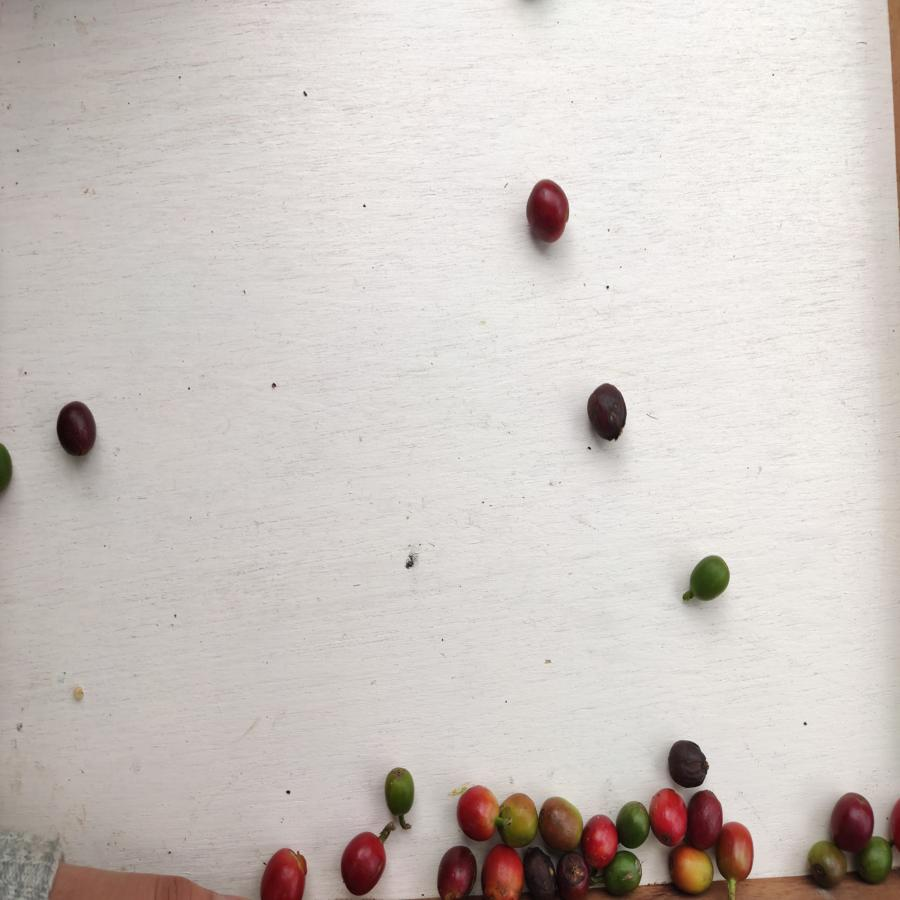Inmaduro: (677, 549, 738, 606), (383, 765, 420, 819), (616, 800, 649, 851), (860, 837, 893, 884), (606, 853, 645, 892)
Maduro: (338, 831, 391, 897), (257, 845, 319, 900), (453, 781, 499, 837), (483, 843, 522, 900), (581, 812, 618, 868), (649, 791, 686, 847)
Pinton: (717, 822, 760, 882), (498, 789, 539, 846), (670, 845, 716, 894), (541, 792, 581, 848), (809, 843, 849, 888)
Sobremaduro: (522, 174, 574, 244), (50, 399, 103, 462), (585, 380, 632, 448), (663, 736, 716, 789), (432, 844, 482, 900), (828, 790, 875, 849), (687, 790, 723, 847), (523, 843, 557, 894), (553, 849, 587, 895)
